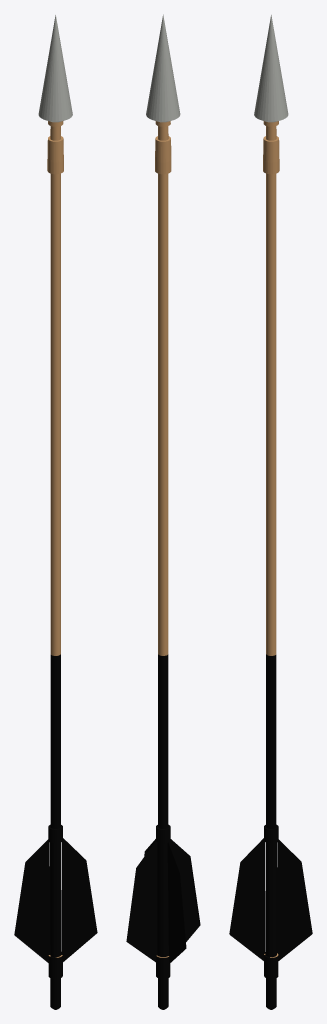
File: Arrow.fbx
3 renders of one model, left to right at view 1: azimuth 90°, elevation 25°; view 2: azimuth 210°, elevation 25°; view 3: azimuth 270°, elevation 25°, orthographic.
Parts seen in each view (by area): view 1: Cylinder; view 2: Cylinder; view 3: Cylinder.
Boxes of the visible parts, x1,y1,x2,y2 form: Cylinder: (14,15,97,1009); Cylinder: (126,14,200,1009); Cylinder: (229,15,312,1009).
Bounding box in the file's own units: 50.29 × 658 × 49.84.
